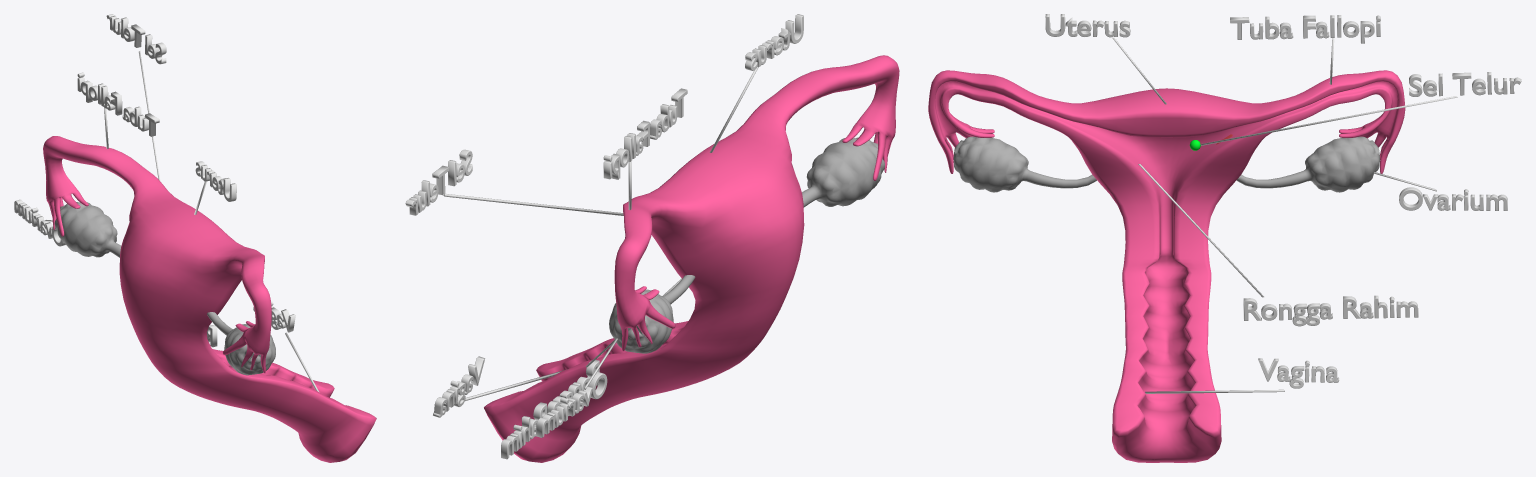
File: fase2a.fbx
The picture shows the model from 3 angles, left to right: view 1: azimuth 30°, elevation 25°; view 2: azimuth 150°, elevation 25°; view 3: azimuth 270°, elevation 25°; orthographic projection. The views are drawn at different scales.
Visible parts, largest first — view 1: Cube.001, Sphere, tuba fallopi, sel telur, ovarium, uterus, vagina; view 2: Cube.001, Sphere, tuba fallopi, dinding rahim, sel telur, ovarium, uterus, vagina, Cube; view 3: Cube.001, Sphere, dinding rahim, tuba fallopi, sel telur, ovarium, vagina, uterus, Cube.
Boxes of the visible parts, x1,y1,x2,y2 form: Cube.001: (43, 136, 376, 462); Sphere: (54, 202, 275, 375); tuba fallopi: (77, 72, 159, 136); sel telur: (106, 14, 166, 64); ovarium: (14, 199, 65, 246); uterus: (195, 161, 236, 201); vagina: (253, 301, 295, 332); Cube.001: (484, 55, 899, 462); Sphere: (609, 137, 884, 353); tuba fallopi: (603, 88, 687, 179); dinding rahim: (501, 360, 599, 459); sel telur: (405, 149, 472, 215); ovarium: (536, 372, 607, 437); uterus: (745, 14, 803, 70); vagina: (433, 356, 485, 417); Cube: (443, 193, 623, 215); Cube.001: (928, 70, 1405, 462); Sphere: (953, 136, 1379, 192); dinding rahim: (1243, 295, 1418, 326); tuba fallopi: (1230, 15, 1380, 43); sel telur: (1409, 72, 1521, 96); ovarium: (1399, 187, 1507, 210); vagina: (1258, 358, 1339, 388); uterus: (1045, 14, 1130, 37); Cube: (1200, 96, 1457, 145).
Size of the model in its own units: 74.77 by 108 by 155.
Materials: 10 (3 with a texture image).
